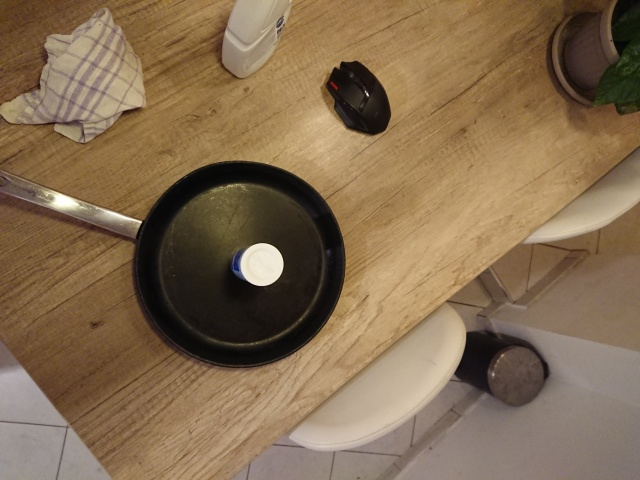Solana Pag Fine Sea Salt 250g: (228, 239, 289, 291)
